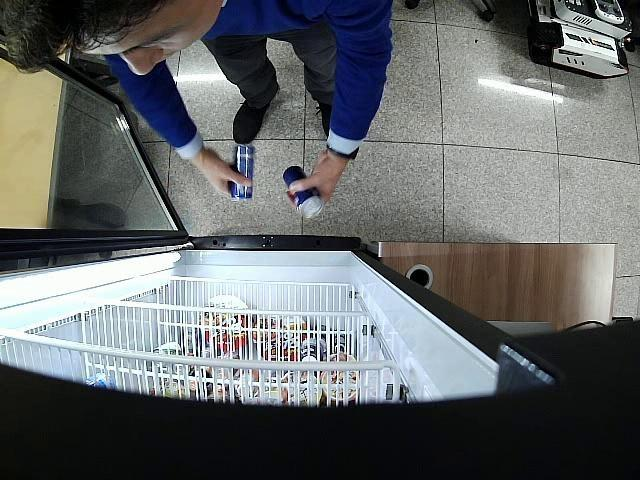16_hot6: (282, 166, 324, 218), (230, 146, 256, 200)
